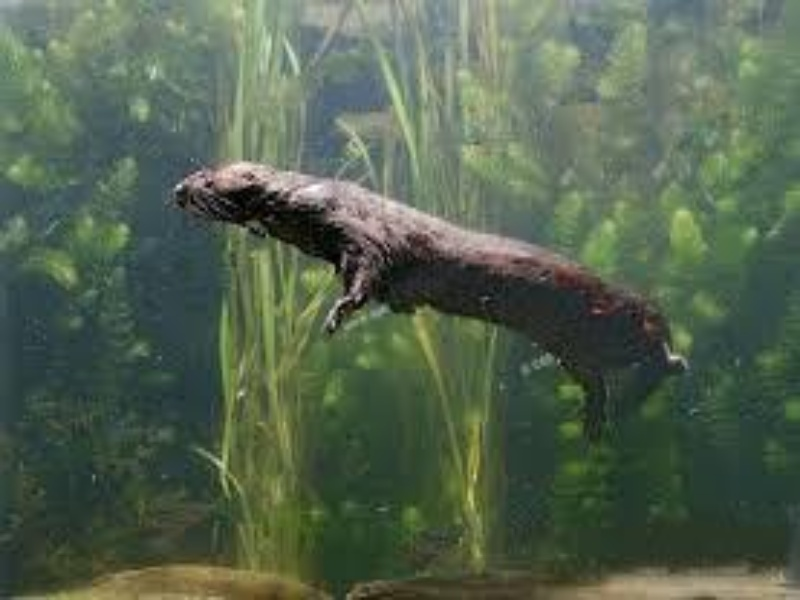minkish: (174, 158, 687, 437)
